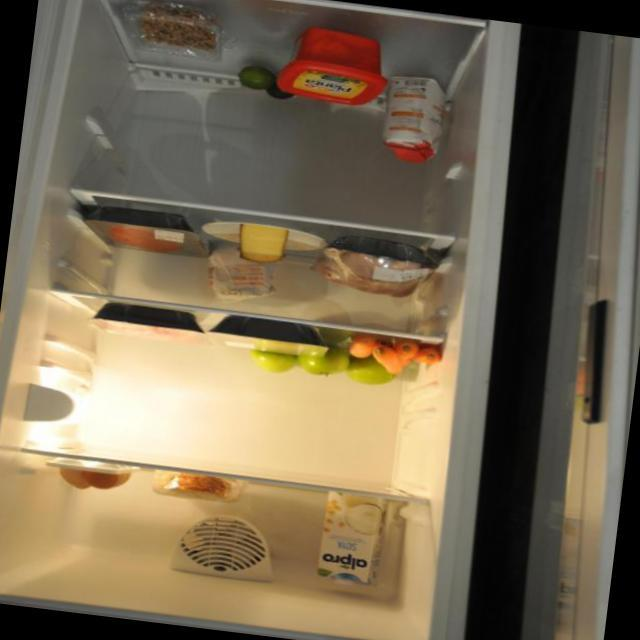Carne pollo: (318, 213, 435, 307)
Huevos: (47, 446, 141, 497)
Manzana: (248, 341, 397, 396)
Queso: (220, 208, 298, 283)
Zanahoria: (345, 319, 439, 370)
lime: (225, 55, 294, 106)
meat: (78, 183, 205, 268), (79, 293, 205, 361), (205, 306, 326, 354)
milk: (308, 488, 381, 595)
